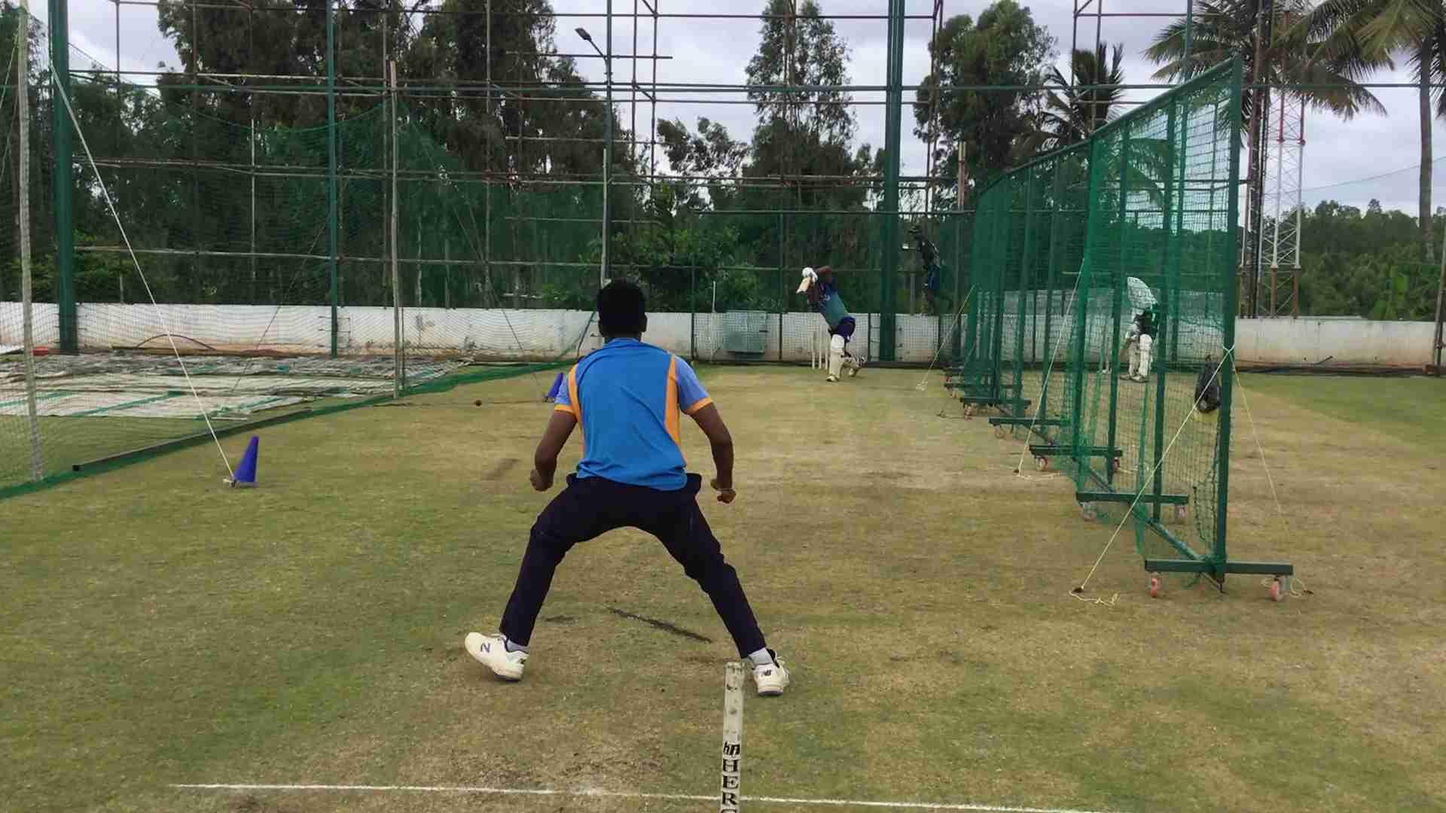batsman: (789, 259, 866, 388)
